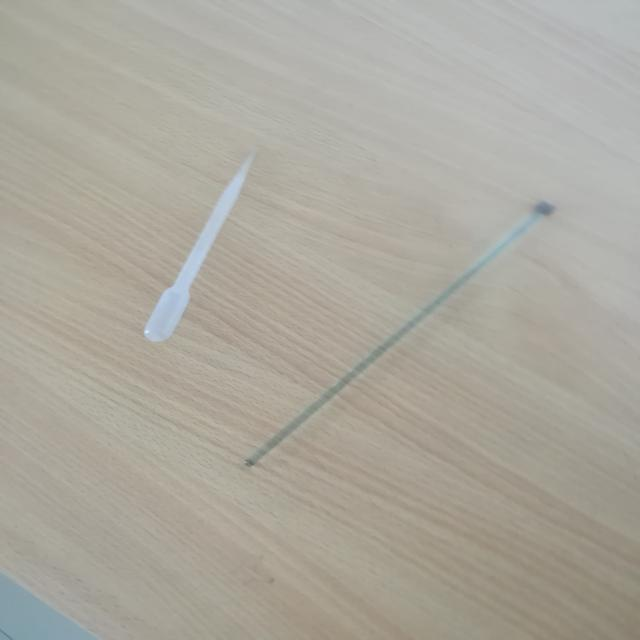Glass_Rod: (223, 182, 574, 501)
Pipette: (104, 131, 280, 356)
